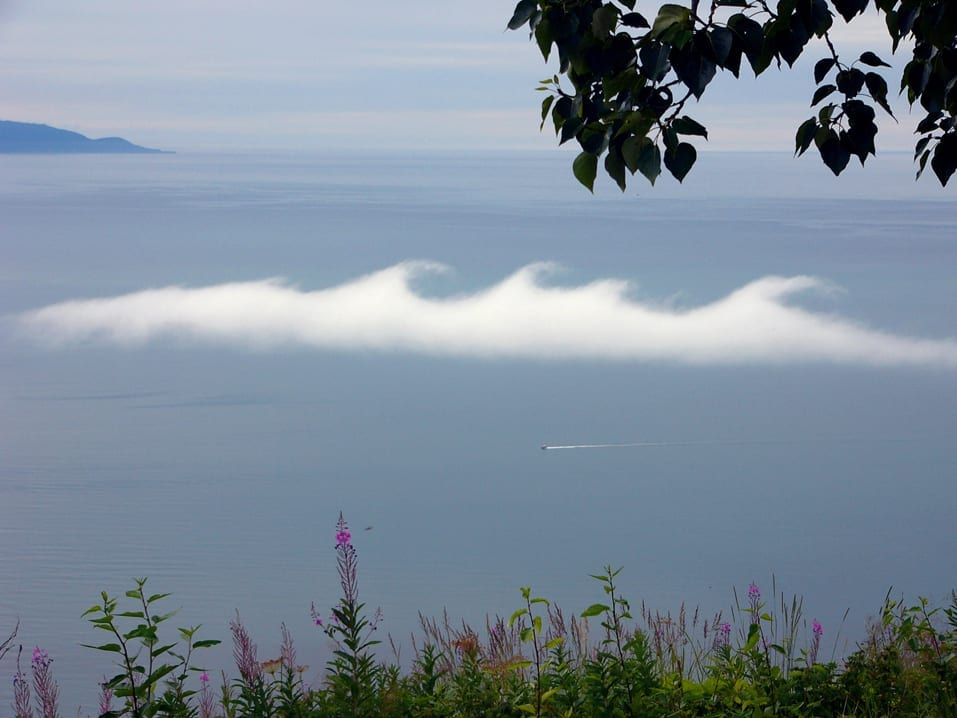Stratus: (41, 213, 951, 403)
